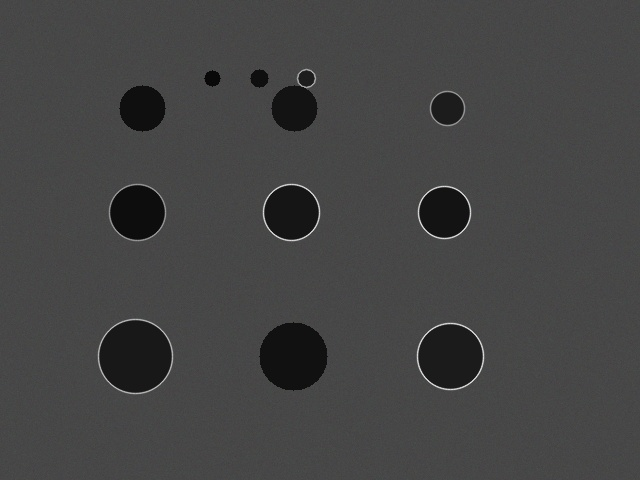hole: (98, 319, 172, 393), (259, 322, 327, 390), (417, 323, 483, 389), (109, 184, 165, 240), (263, 184, 319, 240), (418, 186, 470, 238), (119, 85, 165, 131), (271, 85, 317, 131), (430, 91, 464, 125), (250, 69, 268, 87), (297, 69, 315, 87), (204, 70, 220, 86)
